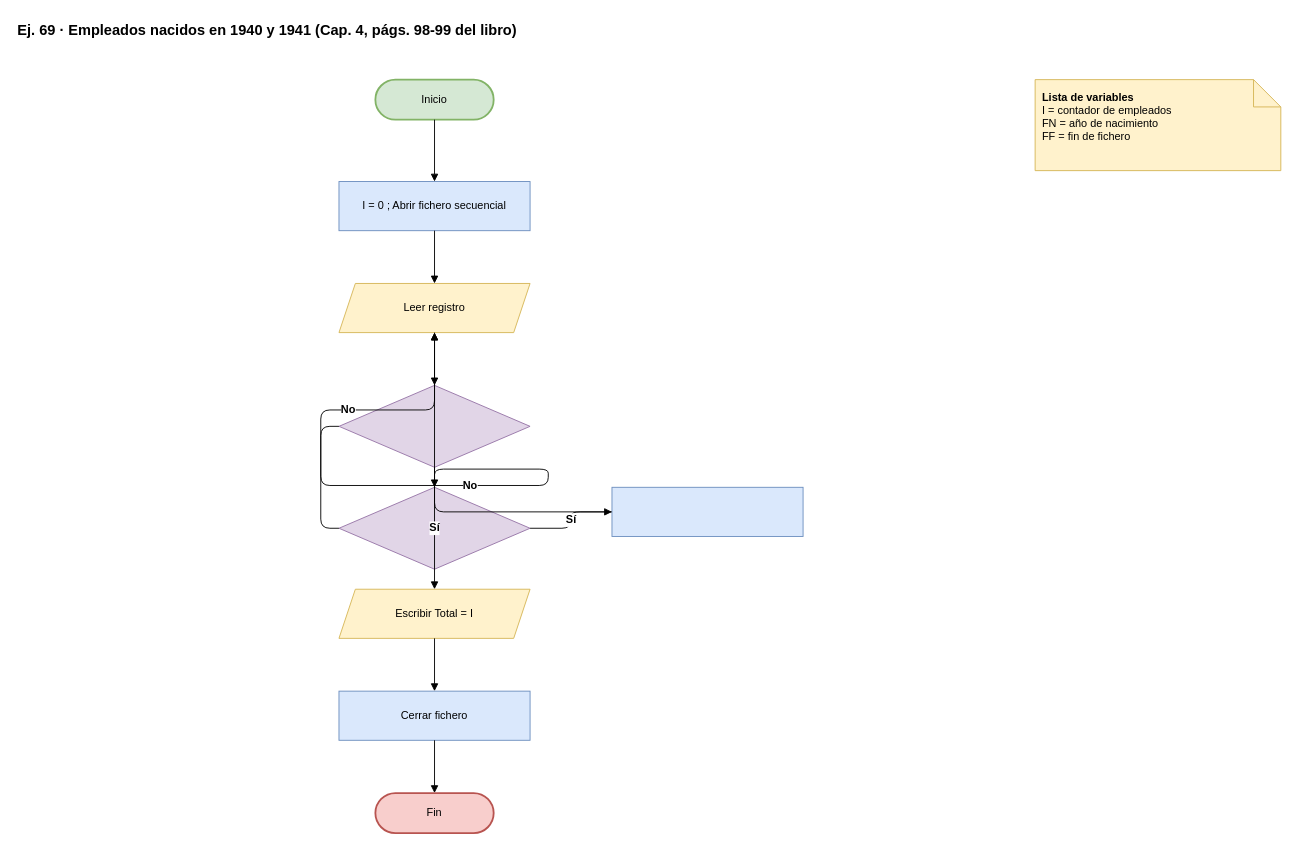
Some shapes in this 1297 by 849 pixel diagram are drawn without their labels. Here are the shapes that lost their labels. From the top down, the centre of each, then its label:
the point at 434,425: ¿Fin de fichero ?
the point at 434,527: Año nac. = 1940 ó 1941 ?
the point at 707,511: I = I + 1
